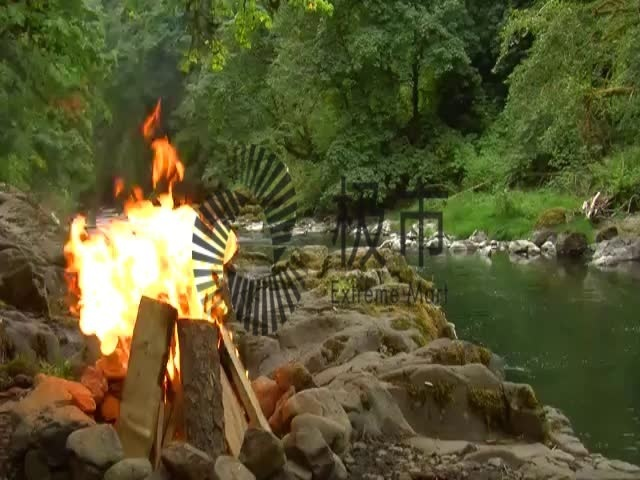fire: (65, 178, 238, 354), (162, 330, 181, 397)
